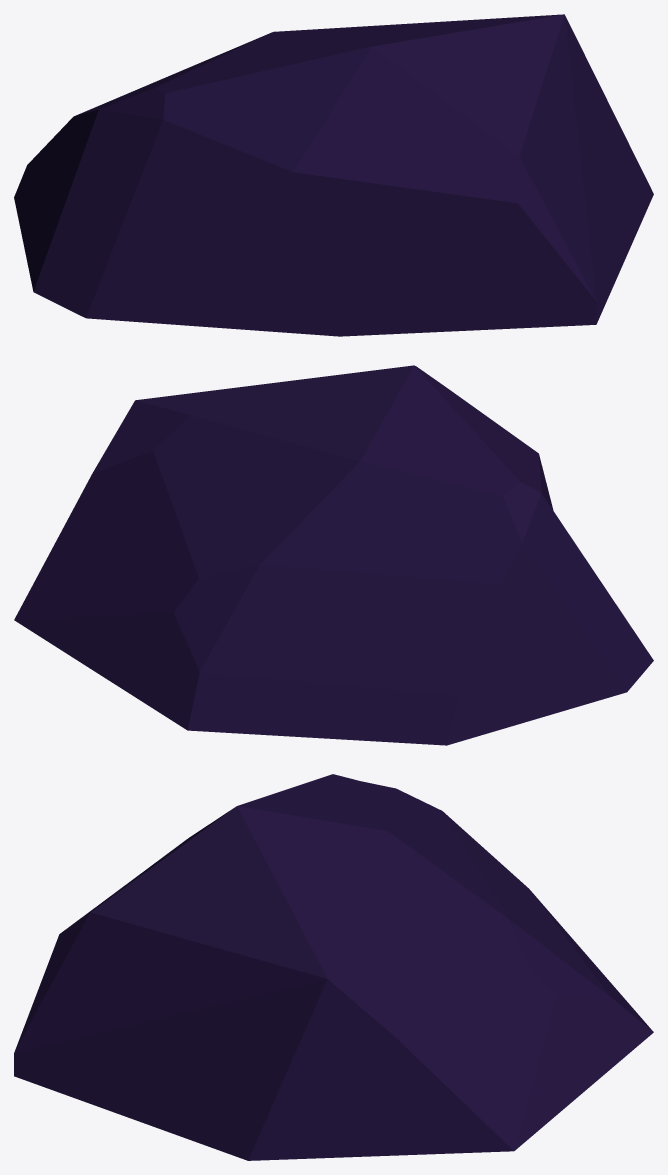
Rendered from stone_015_grp.fbx.
3 renders of one model, top to bottom at view 1: azimuth 30°, elevation 25°; view 2: azimuth 150°, elevation 25°; view 3: azimuth 270°, elevation 25°, orthographic. The views are drawn at different scales.
Parts seen in each view (by area): view 1: stone_015_grp; view 2: stone_015_grp; view 3: stone_015_grp.
Part boxes in pixels (x1=…): stone_015_grp: x1=14, y1=14, x2=653, y2=336; stone_015_grp: x1=14, y1=365, x2=653, y2=745; stone_015_grp: x1=14, y1=774, x2=653, y2=1160.
Bounding box in the file's own units: 200 × 75 × 200.
